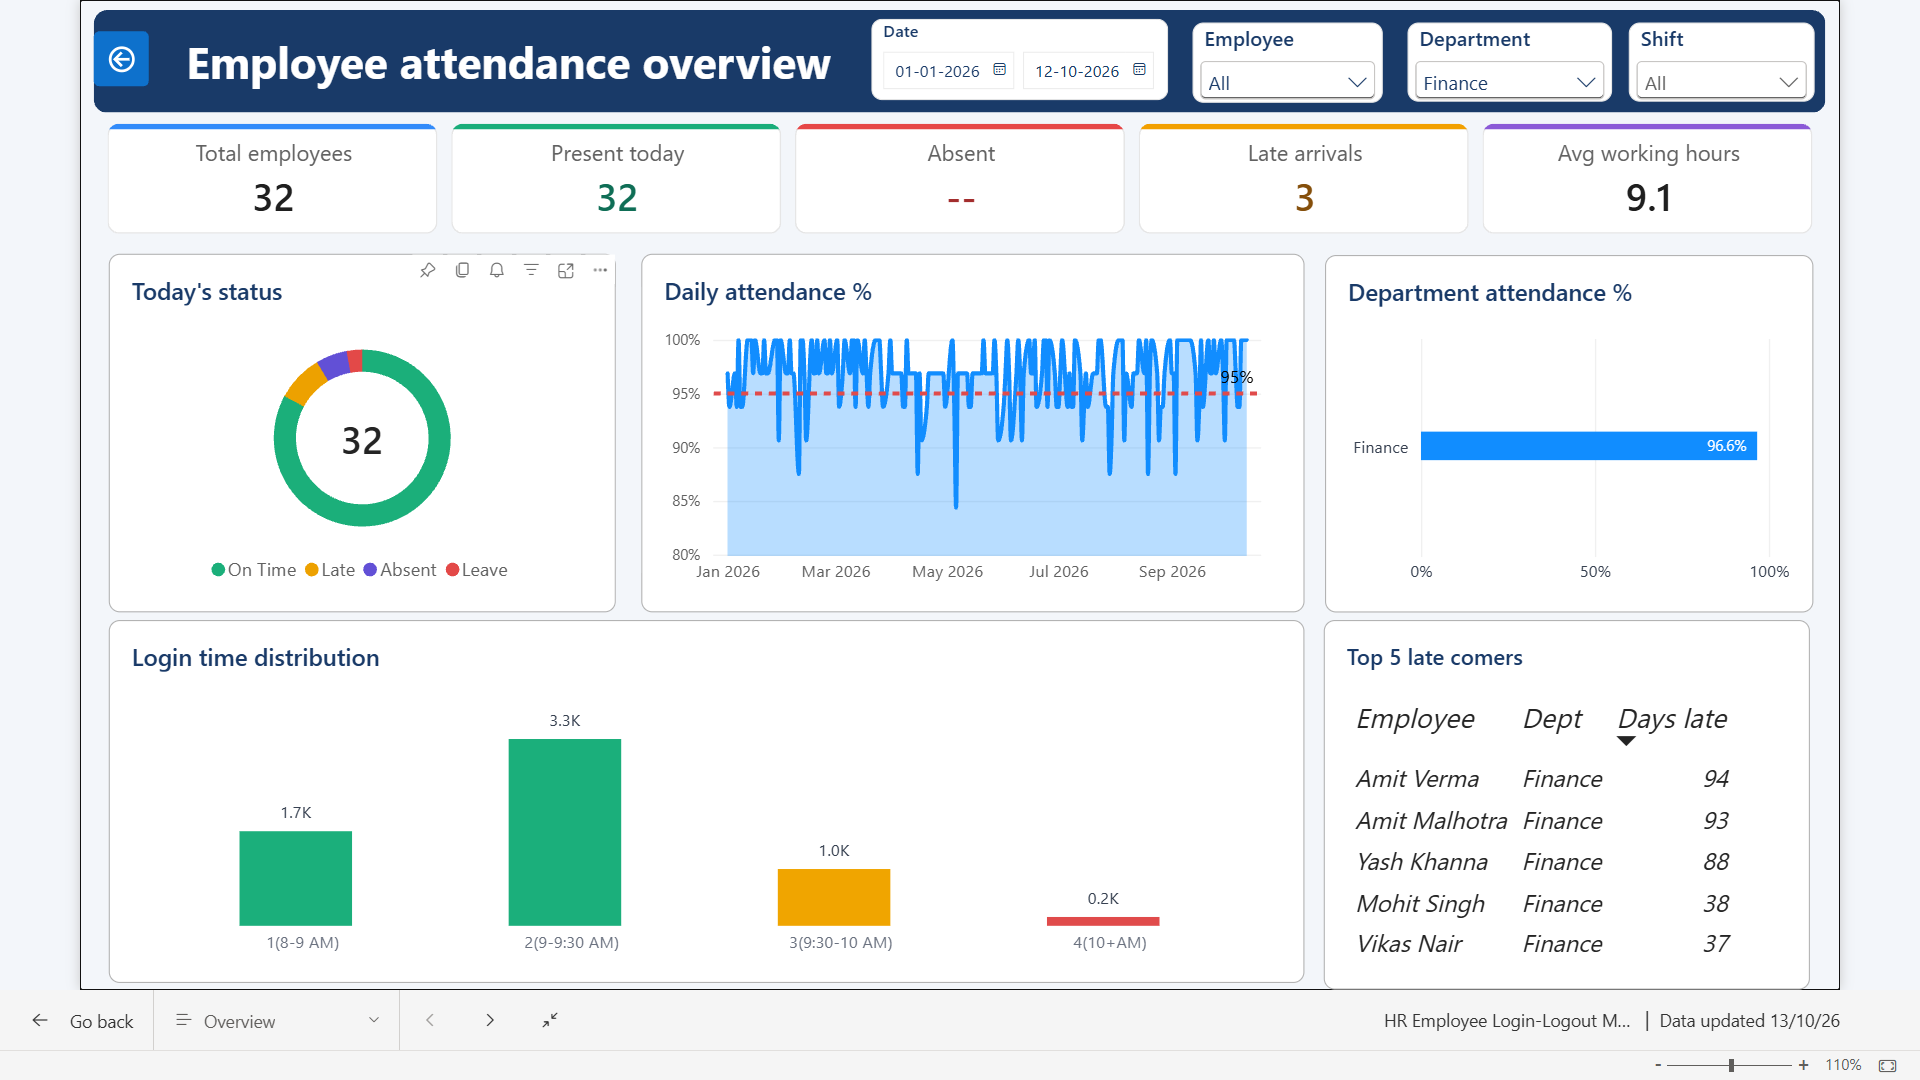

Layout of this report page (visuals, bound fields, positions):
{"tool":"powerbi","page":{"name":"Overview","canvas":[1280,720],"ordinal":0},"visuals":[{"type":"shape","box":[9.7,7.2,1259.5,74.8],"z":0},{"type":"textbox","box":[77.5,22.5,472.9,45.8],"z":1000},{"type":"cardVisual","fields":{"Data":["Employees.Present Today"]},"box":[270,90,240,80],"z":2000},{"type":"cardVisual","fields":{"Data":["Attendance.Total Employee"]},"box":[20,90,240,80],"z":3000},{"type":"slicer","fields":{"Values":["Calendar.Date"]},"box":[575,13.8,216,59.1],"z":4000},{"type":"slicer","fields":{"Values":["Employees.Department"]},"box":[965,16.2,148.8,57.5],"z":5000},{"type":"slicer","fields":{"Values":["Employees.Shift"]},"box":[1126.2,16.2,135,57.5],"z":6000},{"type":"cardVisual","fields":{"Data":["Employees.Absent Today"]},"box":[520,90,240,80],"z":7000},{"type":"cardVisual","fields":{"Data":["Employees.Late Today"]},"box":[770,90,240,80],"z":8000},{"type":"cardVisual","fields":{"Data":["Attendance.Avg Hours"]},"box":[1020,90,240,80],"z":9000},{"type":"donutChart","title":"Today''s status","fields":{"Category":["Attendance.Day Status"],"Y":["Employees.Status Count Today"]},"box":[20.5,184.6,369.2,260.6],"z":10000},{"type":"lineChart","title":"Daily attendance %","fields":{"Category":["Calendar.Date"],"Y":["Employees.Attendance %"]},"box":[407.8,184.6,482.6,260.6],"z":11000},{"type":"clusteredColumnChart","title":"Login time distribution","fields":{"Category":["Attendance.LogIn Slot"],"Y":["Count(Attendance.RecordID)"]},"box":[20.5,451.2,869.8,264.2],"z":12000},{"type":"clusteredBarChart","title":"Department attendance %","fields":{"Category":["Employees.Department"],"Y":["Employees.Attendance %"]},"box":[905,185,355,260],"z":13000},{"type":"tableEx","title":"Top 5  late comers","fields":{"Values":["Employees.Name","Employees.Department","Attendance.Late Count"]},"box":[904.8,451.2,353.5,269],"z":14000},{"type":"actionButton","box":[9.7,22.9,40,40],"z":15000},{"type":"slicer","fields":{"Values":["Employees.Name"]},"box":[808.8,16.2,138.8,58.8],"z":16000}]}

Visuals, with their boxes on the page's 1280x720 design canvas (x1, y1, x2, y2). These are canvas units, not pixel positions in the 1920x1080 screenshot, which may show the page scaled, cropped or inside an application window:
shape: 10 7 1269 82
textbox: 78 22 550 68
cardVisual - Employees.Present Today: 270 90 510 170
cardVisual - Attendance.Total Employee: 20 90 260 170
slicer - Calendar.Date: 575 14 791 73
slicer - Employees.Department: 965 16 1114 74
slicer - Employees.Shift: 1126 16 1261 74
cardVisual - Employees.Absent Today: 520 90 760 170
cardVisual - Employees.Late Today: 770 90 1010 170
cardVisual - Attendance.Avg Hours: 1020 90 1260 170
"Today''s status" donutChart: 20 185 390 445
"Daily attendance %" lineChart: 408 185 890 445
"Login time distribution" clusteredColumnChart: 20 451 890 715
"Department attendance %" clusteredBarChart: 905 185 1260 445
"Top 5  late comers" tableEx: 905 451 1258 720
actionButton: 10 23 50 63
slicer - Employees.Name: 809 16 948 75
